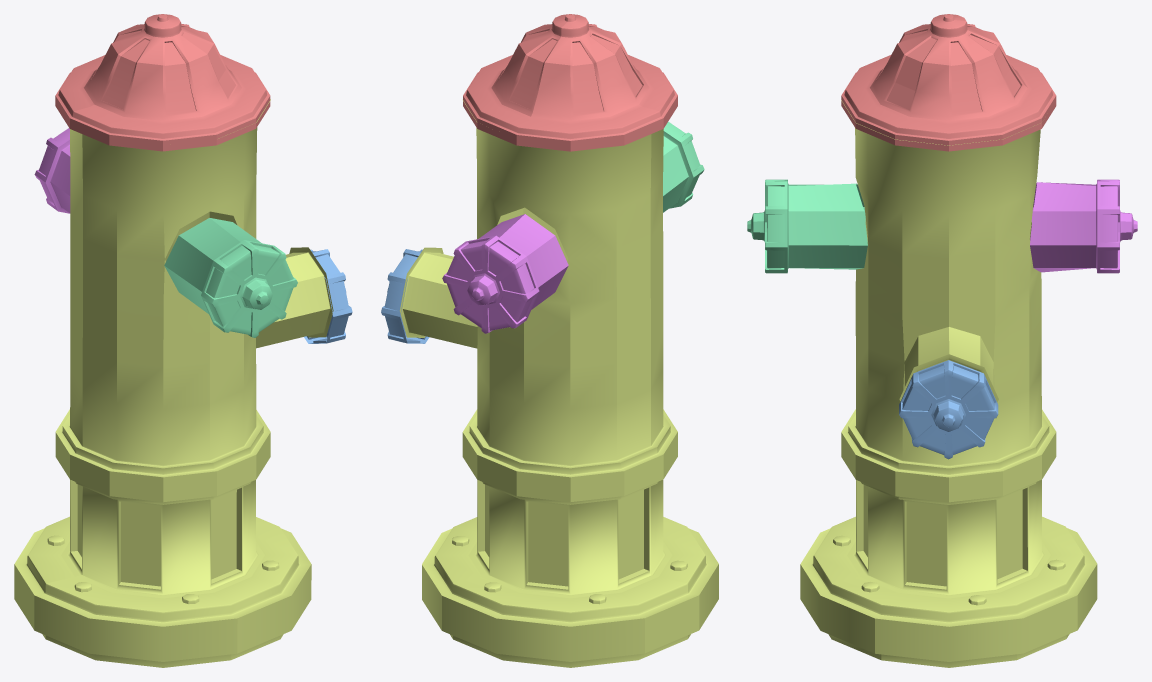
The model's file is hydrant_r.glb.
The picture shows the model from 3 angles, left to right: view 1: azimuth 30°, elevation 25°; view 2: azimuth 150°, elevation 25°; view 3: azimuth 270°, elevation 25°; orthographic projection.
Visible parts, largest first — view 1: Part_1, Part_0, Part_2, Part_4, Part_3; view 2: Part_1, Part_0, Part_4, Part_2, Part_3; view 3: Part_1, Part_0, Part_2, Part_4, Part_3.
Boxes of the visible parts, left/top/right/bottom form: Part_1: left=14, top=99, right=333, bottom=667; Part_0: left=55, top=14, right=270, bottom=151; Part_2: left=164, top=218, right=297, bottom=337; Part_4: left=34, top=128, right=70, bottom=213; Part_3: left=304, top=249, right=352, bottom=343; Part_1: left=399, top=99, right=718, bottom=667; Part_0: left=463, top=14, right=677, bottom=151; Part_4: left=442, top=214, right=568, bottom=333; Part_2: left=663, top=121, right=704, bottom=212; Part_3: left=381, top=249, right=429, bottom=343; Part_1: left=800, top=100, right=1097, bottom=667; Part_0: left=841, top=14, right=1056, bottom=151; Part_2: left=747, top=179, right=867, bottom=273; Part_4: left=1030, top=179, right=1137, bottom=273; Part_3: left=899, top=360, right=998, bottom=459.
Bounding box in the file's own units: 1.06 × 1.98 × 1.16.
